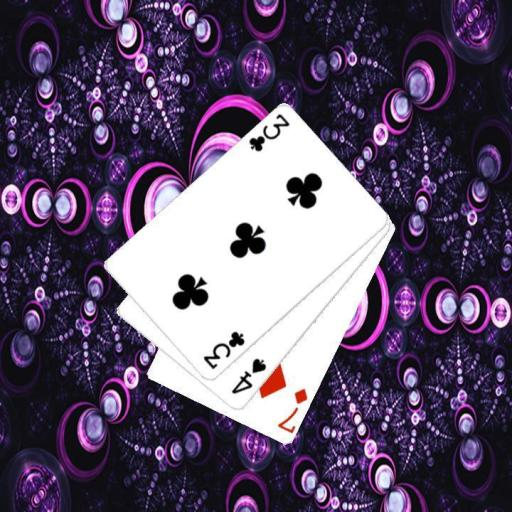card-corner: (246, 110, 292, 154), (200, 328, 247, 371), (274, 386, 309, 434), (228, 355, 268, 396)
